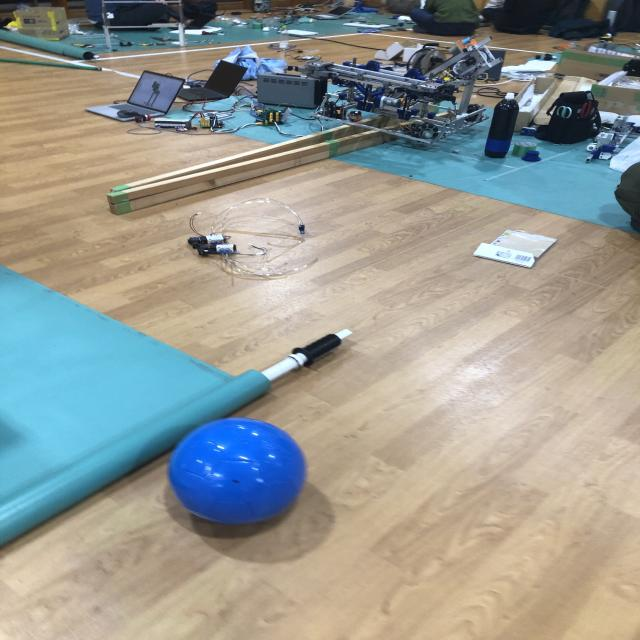blue_ball: (170, 416, 300, 529)
